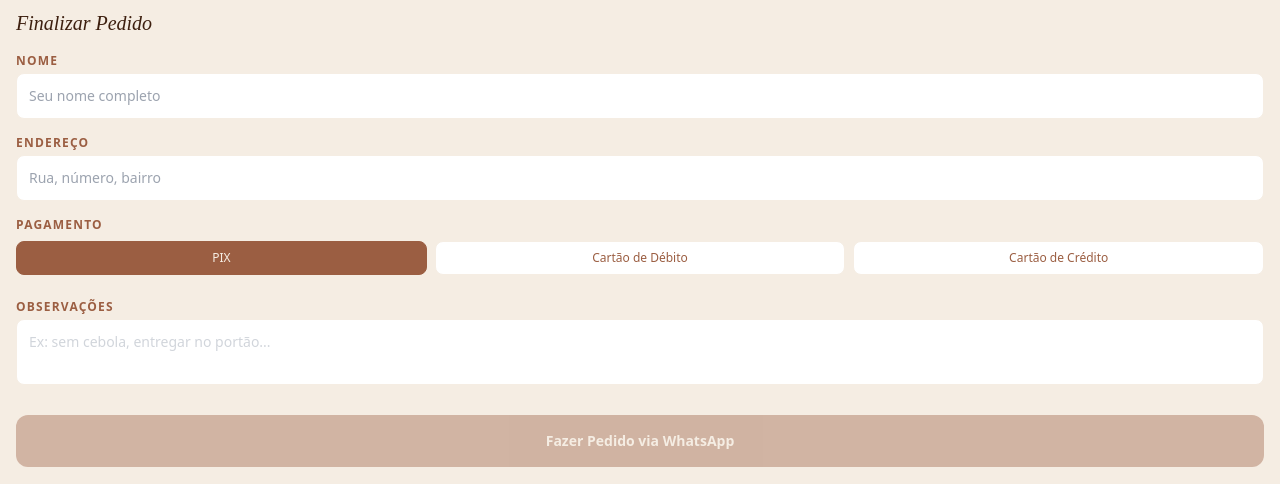
Test: submit button enables when both name and address are filled
Type "João" into the field with placeholder "Seu nome completo".
click(640, 96); type("João")  # box [16,73,1264,119]
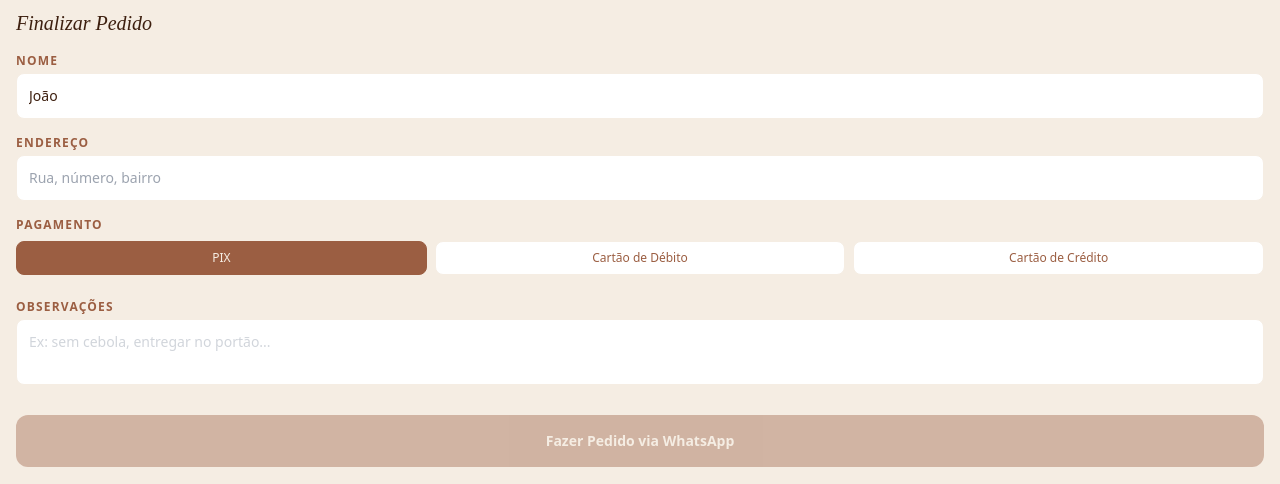
Type "Rua A, 1" into the field with placeholder "Rua, número, bairro".
click(640, 178); type("Rua A, 1")  # box [16,155,1264,201]
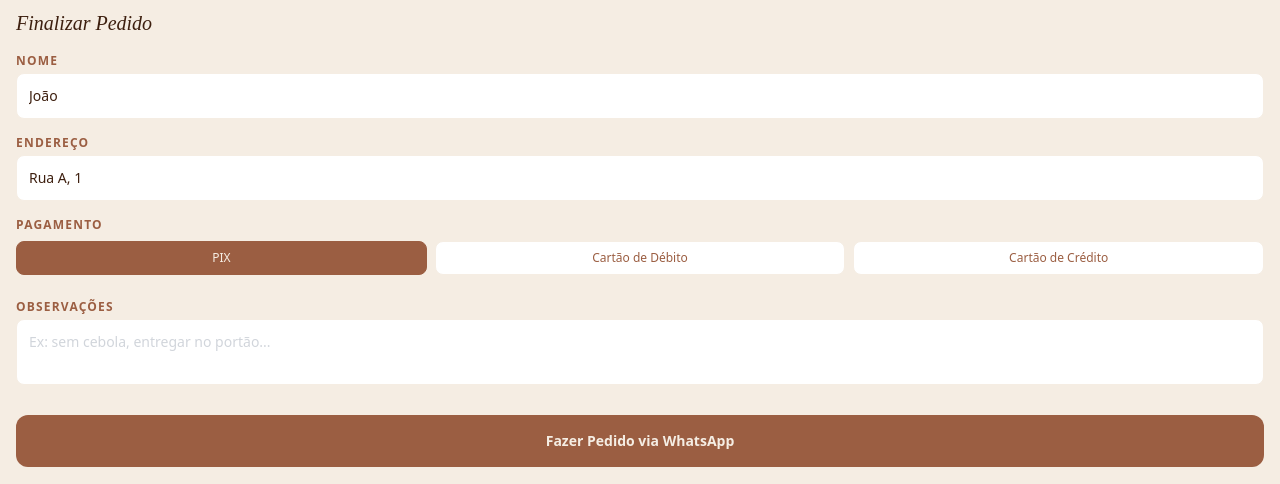
Expected: the button "Fazer Pedido via WhatsApp" is enabled, [16,415,1264,467]
